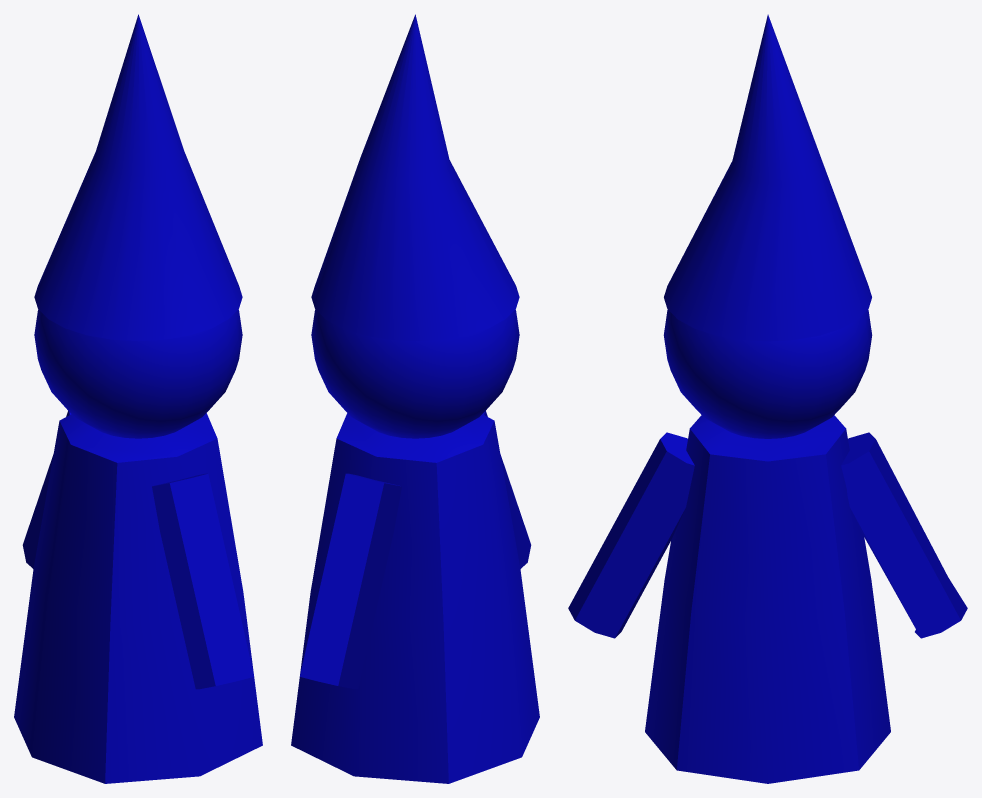
File: Player.fbx
3 views of the same model, side by side, from view 1: azimuth 30°, elevation 25°; view 2: azimuth 150°, elevation 25°; view 3: azimuth 270°, elevation 25° (orthographic).
Visible parts, largest first — view 1: Player; view 2: Player; view 3: Player.
Part boxes in pixels (<box>): Player: <box>14,14,262,783</box>; Player: <box>291,14,539,783</box>; Player: <box>568,14,967,783</box>.
Bounding box in the file's own units: 118 × 380 × 192.
